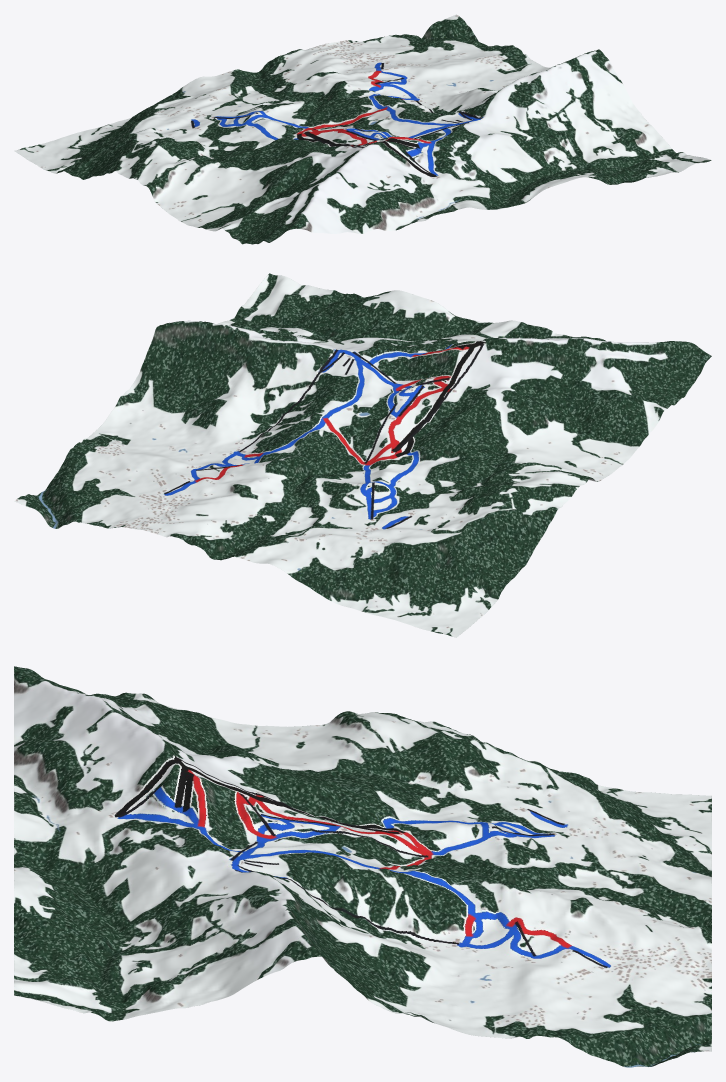
3 views of the same model, one above another, from view 1: azimuth 30°, elevation 25°; view 2: azimuth 150°, elevation 25°; view 3: azimuth 270°, elevation 25° (orthographic). The views are drawn at different scales.
Parts seen in each view (by area): view 1: C2_Imberg.glb; view 2: C2_Imberg.glb; view 3: C2_Imberg.glb.
Part boxes in pixels (x1,y1,x2,y2): C2_Imberg.glb: (14, 14, 711, 244); C2_Imberg.glb: (14, 273, 711, 637); C2_Imberg.glb: (14, 666, 711, 1067).
Size of the model in its own units: 3783 by 938 by 3783.
1 material, 1 textured.
